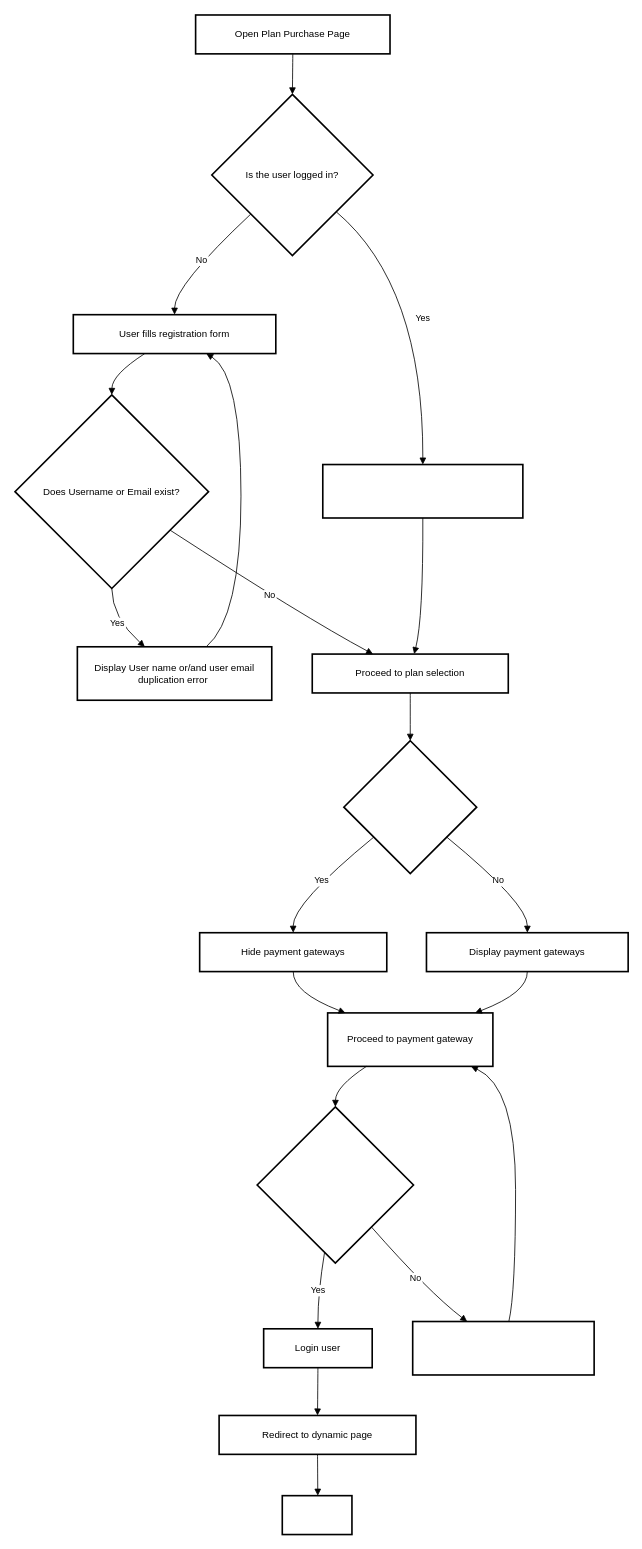
Some shapes in this 642 by 1549 pixel diagram are drawn without their labels. Each missing label, with the centre of its shape:
"Display payment failed error" belongs at pixel 503 1347.
"End" belongs at pixel 316 1514.
"Is the plan free?" belongs at pixel 410 807.
"Payment successful?" belongs at pixel 335 1185.
"Skip registration form and verification" belongs at pixel 422 490.
